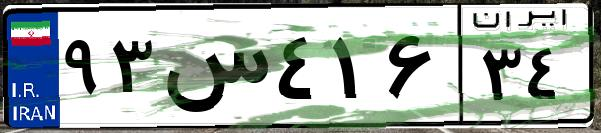1: (330, 28, 385, 110)
3: (475, 38, 525, 113), (110, 28, 158, 98)
4: (270, 28, 330, 110), (525, 38, 570, 115)
6: (385, 28, 445, 110)
9: (57, 26, 110, 100)
س: (158, 20, 270, 120)
